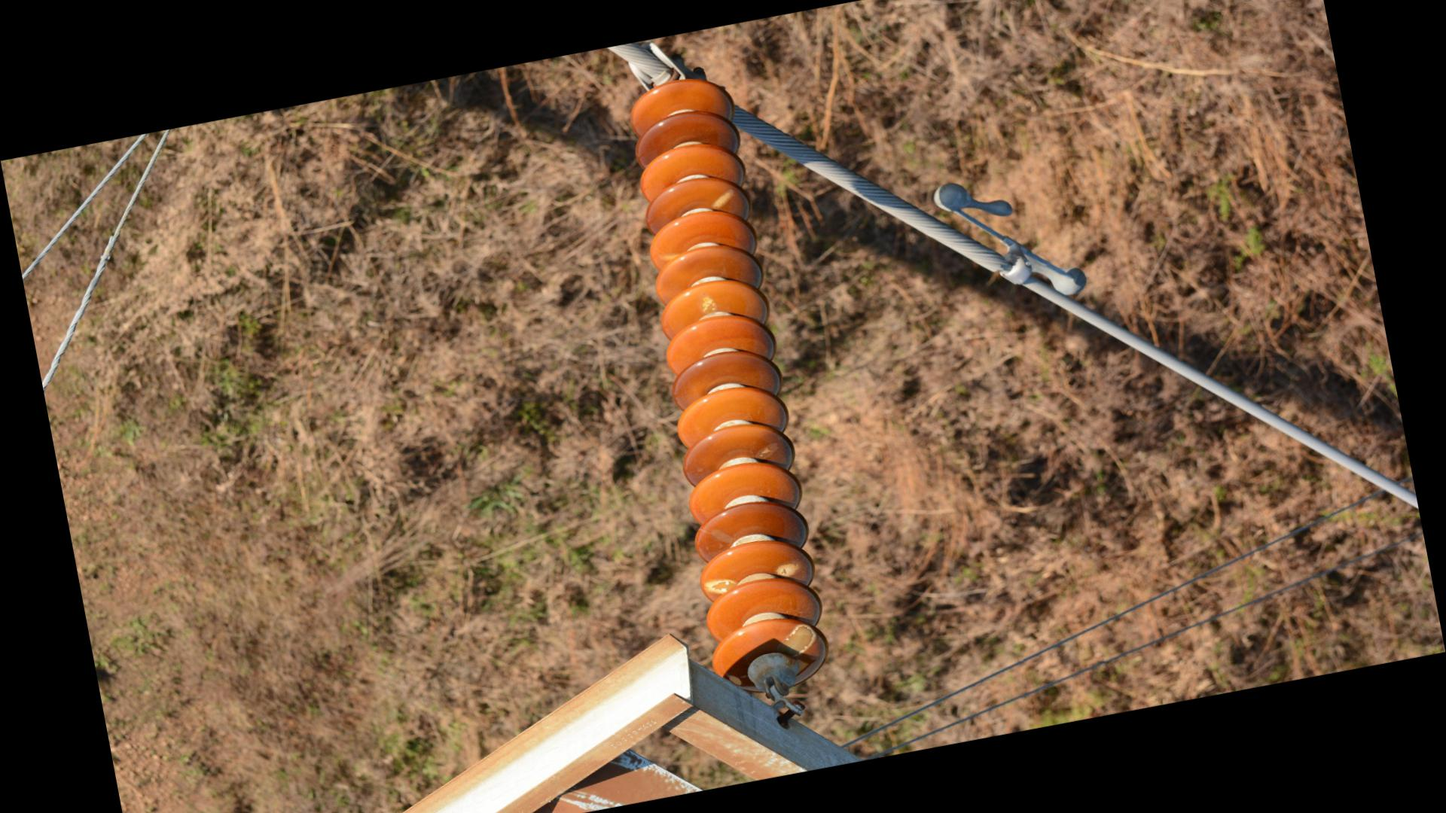damper: (926, 156, 1095, 325)
